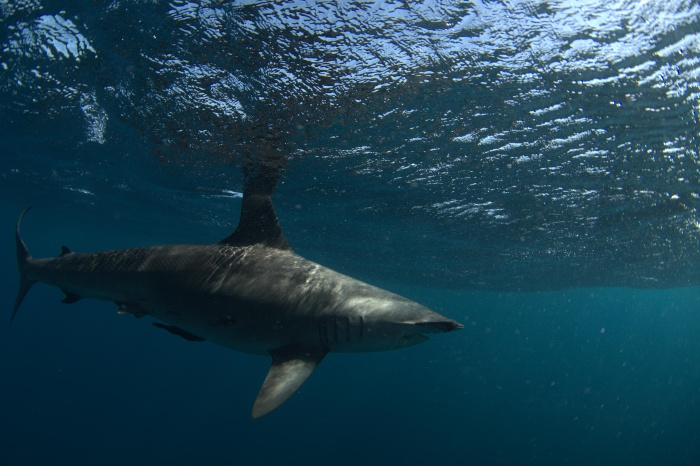Hammer: (1, 173, 512, 421), (145, 224, 464, 404)
